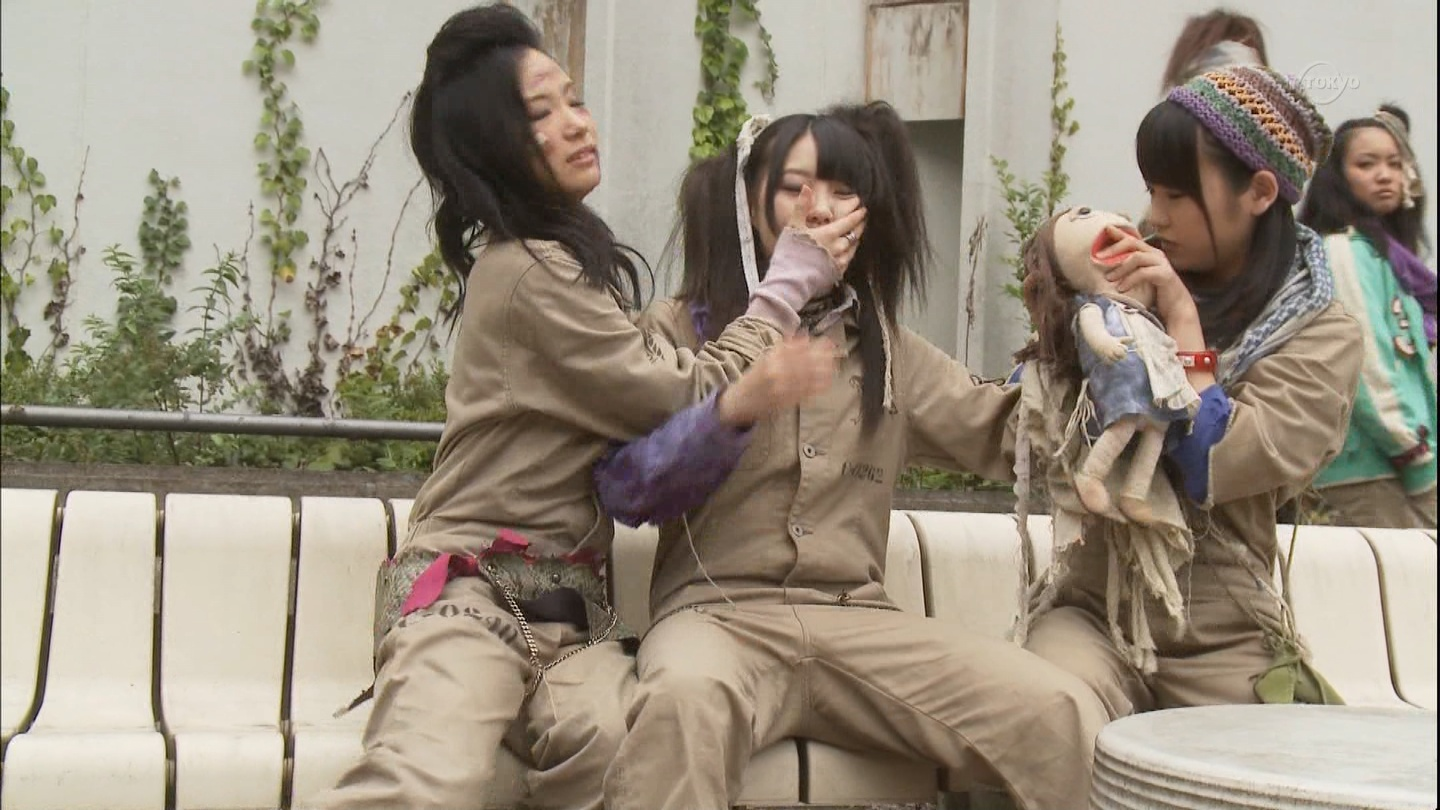face: (774, 144, 871, 261), (517, 63, 601, 196), (1141, 157, 1233, 269), (1345, 134, 1403, 208)
